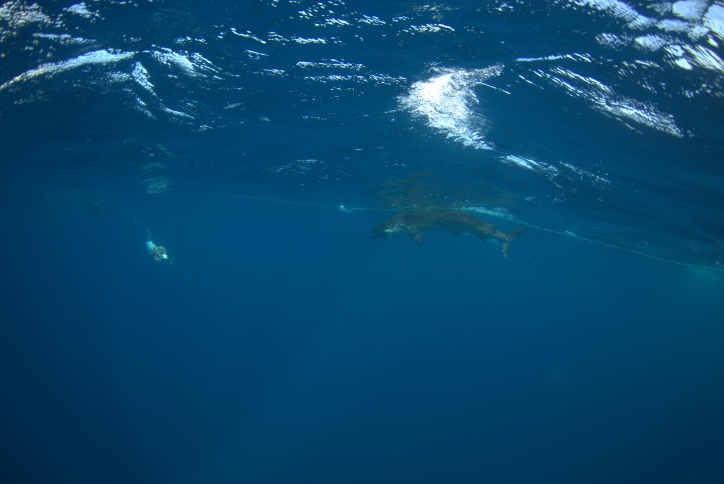Hammer: (349, 186, 530, 281)
